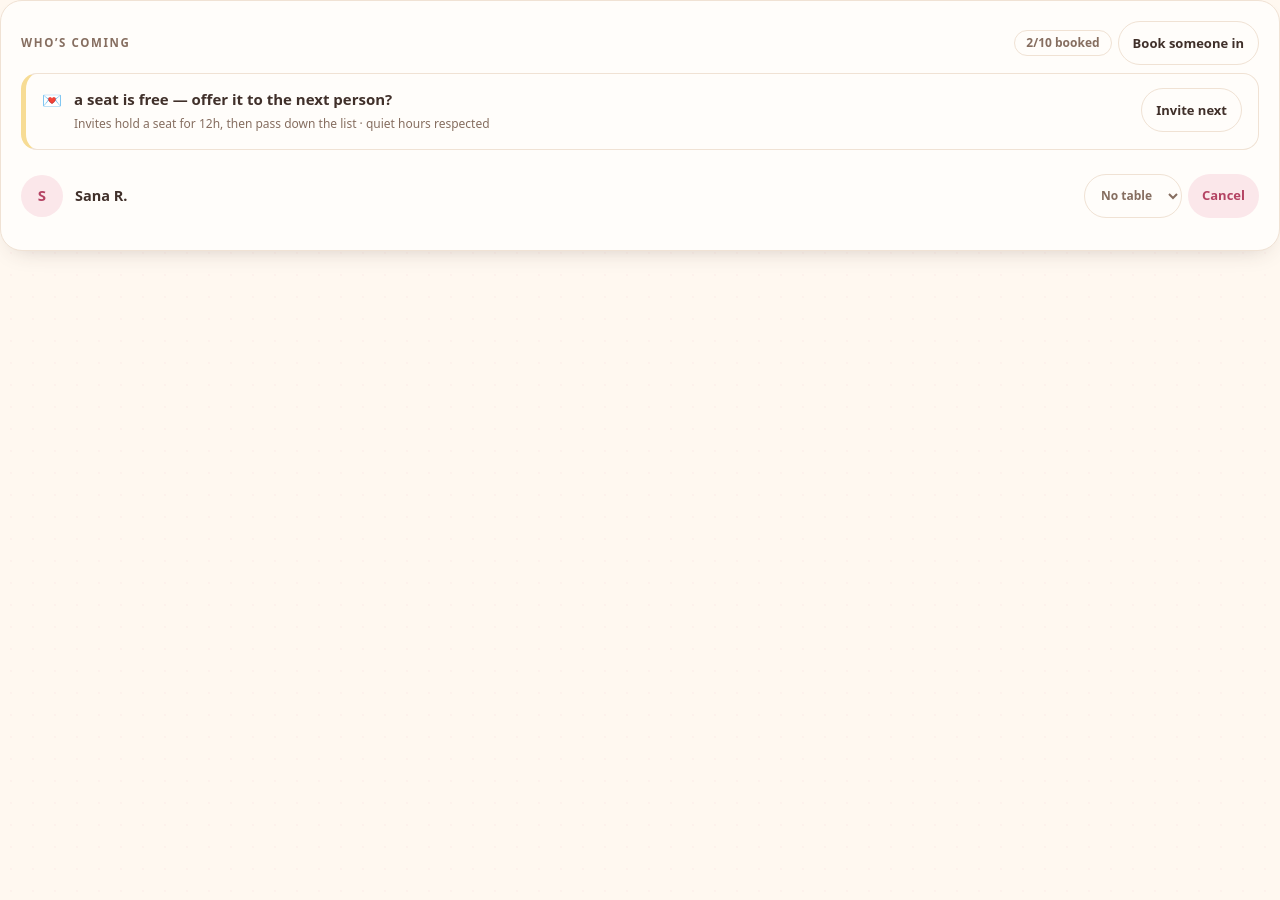
SessionRoster › waitlist › shows the API's reason when nobody could be invited
Click the button "Invite next" at (1192,110), box [1141,88,1242,132]
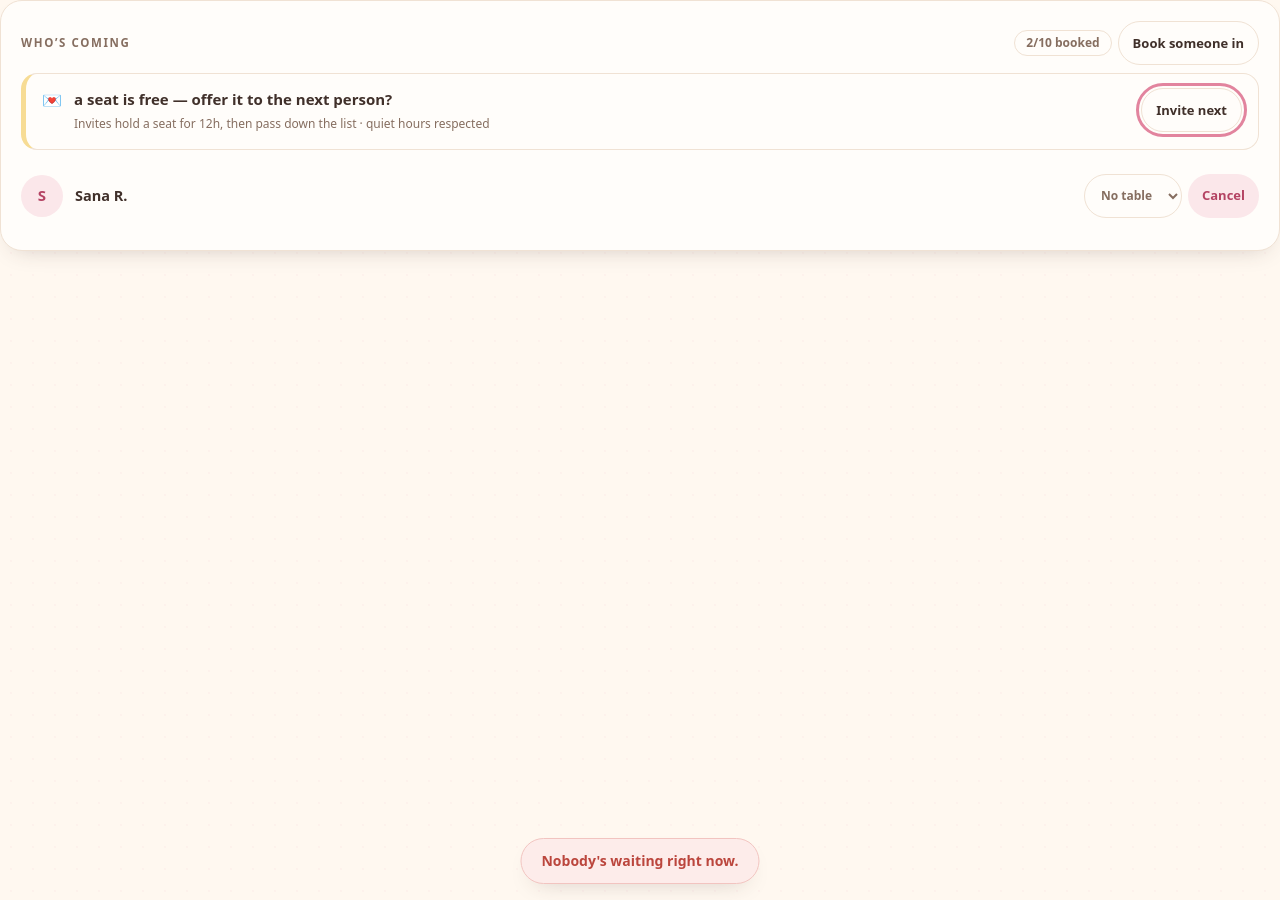
Expected: the text with test id "toast" reads "Nobody's waiting right now.", [542,851,738,870]
